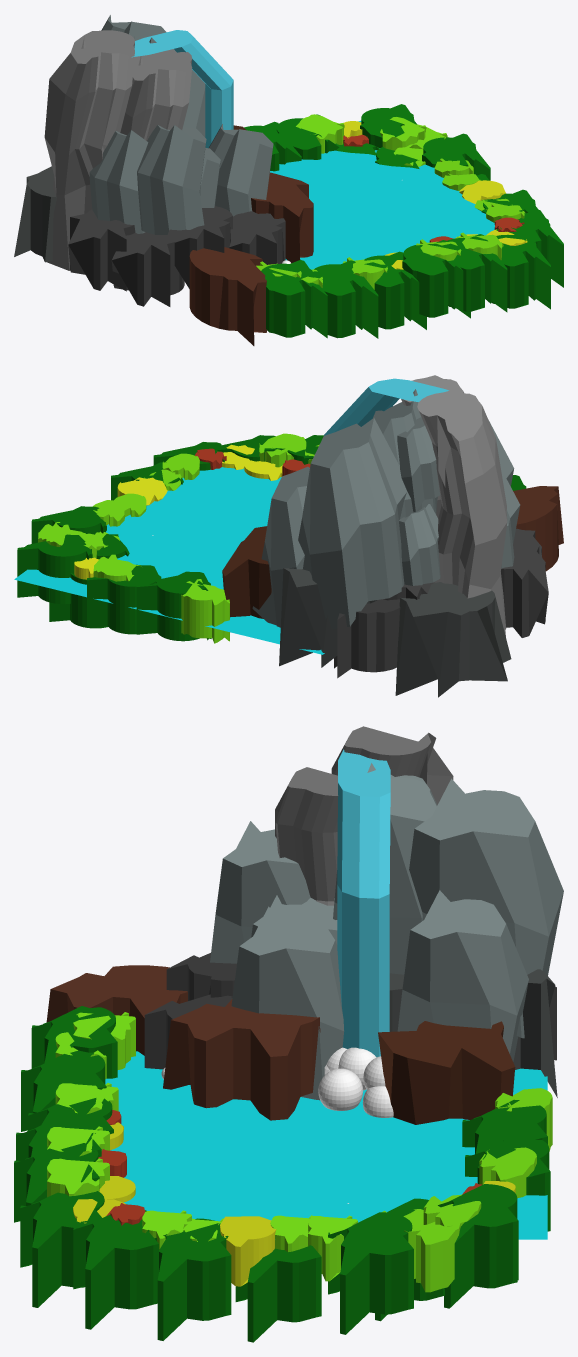
Rendered from waterfall.glb.
The picture shows the model from 3 angles, top to bottom: view 1: azimuth 30°, elevation 25°; view 2: azimuth 150°, elevation 25°; view 3: azimuth 270°, elevation 25°; orthographic projection. The views are drawn at different scales.
Visible parts, largest first — view 1: Plane.002, Cylinder.011, Cylinder.018, Cylinder.024, Cylinder.013, Cylinder.001, Cylinder.019, Cylinder.042, Cylinder.016, Cylinder, Cylinder.017, Cylinder.031 (+27 smaller); view 2: Cylinder.008, Plane.002, Cylinder.011, Cylinder.012, Cylinder.002, Cylinder.007, Cylinder.022, Cylinder.017, Cylinder.003, Cylinder.034, Cylinder.036, Cylinder.051 (+27 smaller); view 3: Plane.002, Cylinder.008, Cylinder, Cylinder.002, Cylinder.004, Cylinder.003, Cylinder.001, Cylinder.059, Cylinder.018, Cylinder.062, Cylinder.061, Cylinder.013 (+33 smaller).
Boxes of the visible parts, box(x1,y1,x2,y2) form: Plane.002: box(270, 121, 494, 269); Cylinder.011: box(44, 30, 134, 270); Cylinder.018: box(137, 125, 206, 234); Cylinder.024: box(189, 247, 266, 345); Cylinder.013: box(120, 49, 192, 140); Cylinder.001: box(209, 124, 273, 216); Cylinder.019: box(89, 130, 148, 233); Cylinder.042: box(261, 260, 327, 338); Cylinder.016: box(111, 232, 184, 306); Cylinder: box(131, 30, 233, 148); Cylinder.017: box(68, 210, 135, 291); Cylinder.031: box(312, 260, 378, 338); Cylinder.008: box(298, 418, 407, 629); Plane.002: box(14, 467, 324, 654); Cylinder.011: box(417, 389, 507, 636); Cylinder.012: box(395, 582, 511, 697); Cylinder.002: box(252, 466, 309, 627); Cylinder.007: box(279, 568, 376, 667); Cylinder.022: box(334, 599, 400, 678); Cylinder.017: box(501, 543, 548, 637); Cylinder.003: box(222, 526, 271, 618); Cylinder.034: box(136, 571, 211, 641); Cylinder.036: box(87, 564, 161, 634); Cylinder.051: box(17, 534, 92, 604); Plane.002: box(105, 1051, 547, 1239); Cylinder.008: box(409, 778, 563, 1038); Cylinder: box(337, 749, 390, 1057); Cylinder.002: box(397, 890, 528, 1061); Cylinder.004: box(163, 999, 320, 1120); Cylinder.003: box(378, 1021, 515, 1124); Cylinder.001: box(231, 906, 344, 1100); Cylinder.059: box(328, 1212, 413, 1334); Cylinder.018: box(210, 821, 310, 963); Cylinder.062: box(73, 1210, 158, 1329); Cylinder.061: box(154, 1218, 231, 1340); Cylinder.013: box(275, 767, 338, 905).
Size of the model in its own units: 18.1 by 10.25 by 13.98.
